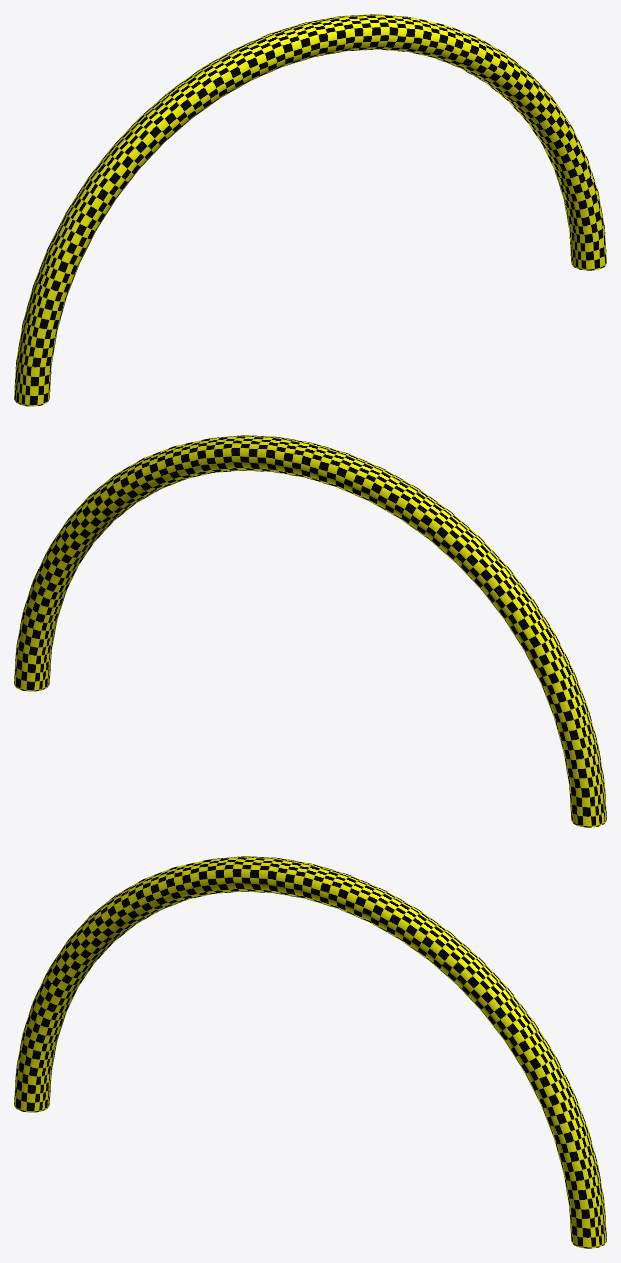
3 views of the same model, one above another, from view 1: azimuth 30°, elevation 25°; view 2: azimuth 150°, elevation 25°; view 3: azimuth 330°, elevation 25° (orthographic).
Parts seen in each view (by area): view 1: IndexedFaceSet; view 2: IndexedFaceSet; view 3: IndexedFaceSet.
Part boxes in pixels (x1,y1,x2,y2): IndexedFaceSet: (14, 14, 606, 406); IndexedFaceSet: (14, 435, 606, 827); IndexedFaceSet: (14, 856, 606, 1248).
Size of the model in its own units: 19 by 9.5 by 1.
